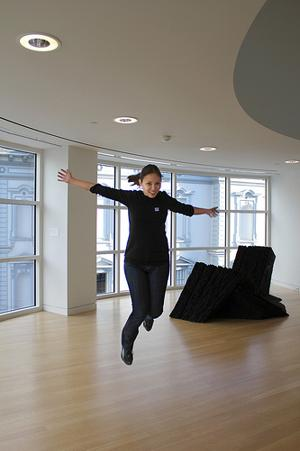person: (61, 159, 218, 368)
